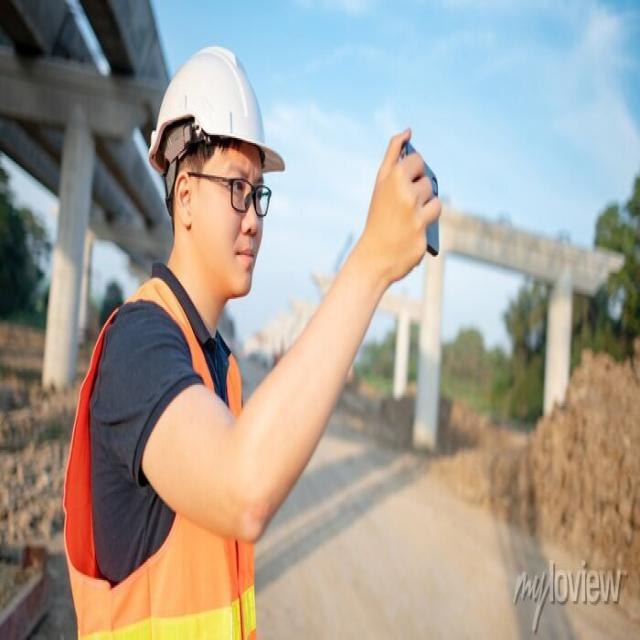goggles: (183, 162, 280, 224)
helmet: (144, 39, 293, 172)
vest: (75, 272, 254, 632)
